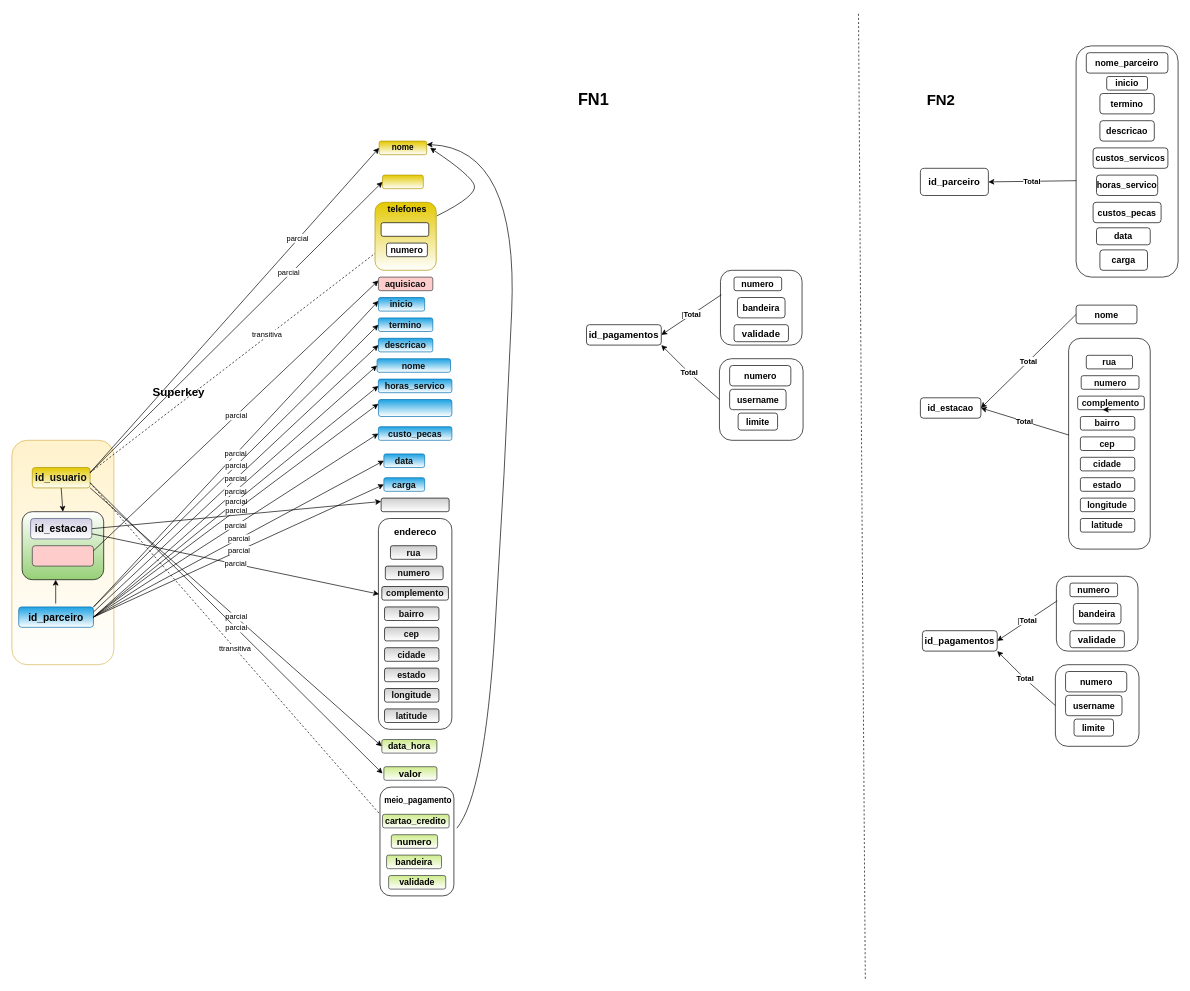
Some shapes in this 1190 by 991 pixel diagram are drawn without their labels. Each missing label, with the box of its shape:
custo_servico: (378, 399, 452, 417)
ddd: (380, 222, 429, 236)
email: (382, 174, 423, 189)
id_patinete: (32, 545, 94, 566)
nome_estacao: (380, 497, 449, 512)
